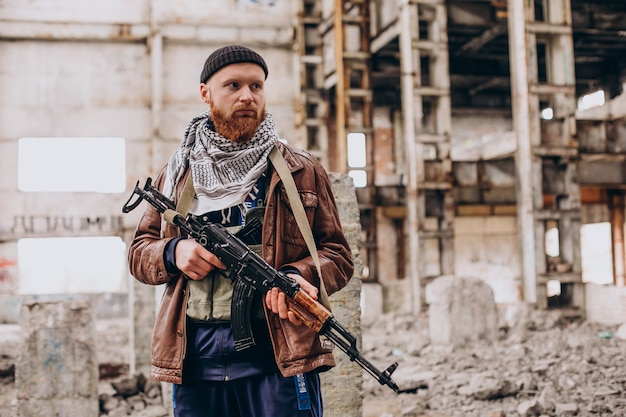gun: (120, 176, 400, 395)
